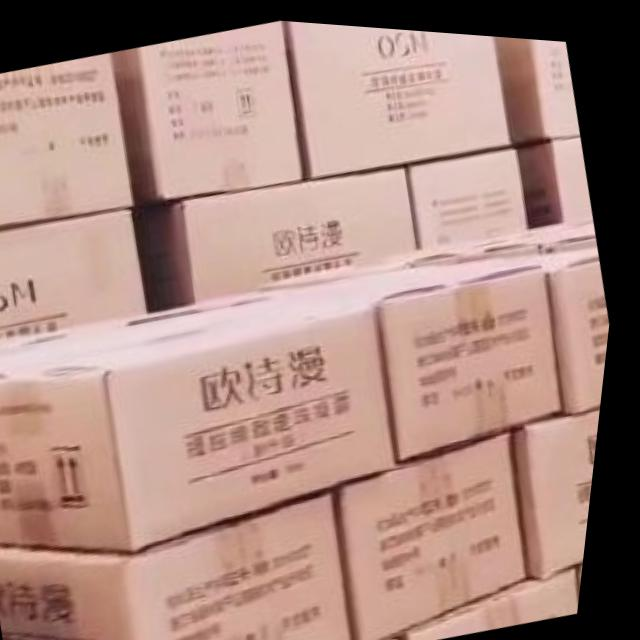box: (0, 305, 408, 546), (155, 248, 570, 454), (1, 483, 369, 640), (345, 421, 540, 640), (281, 16, 512, 174), (112, 16, 309, 198), (176, 161, 421, 299), (0, 50, 139, 231), (0, 203, 155, 340), (512, 396, 609, 572), (415, 554, 592, 638), (409, 139, 531, 243), (542, 240, 616, 405), (493, 29, 582, 137), (521, 125, 597, 219)
